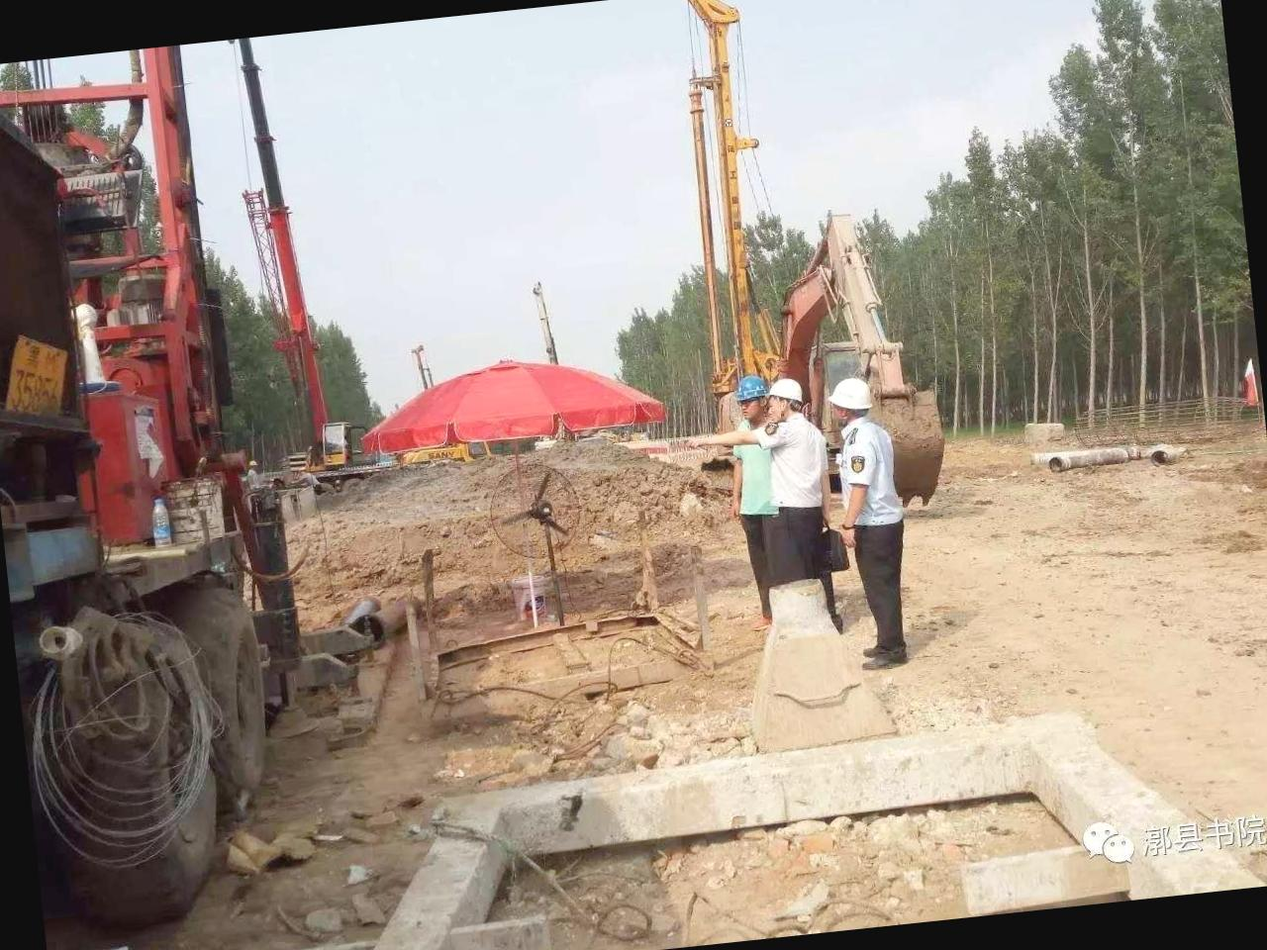helmet: (812, 356, 919, 676), (820, 370, 875, 425)
